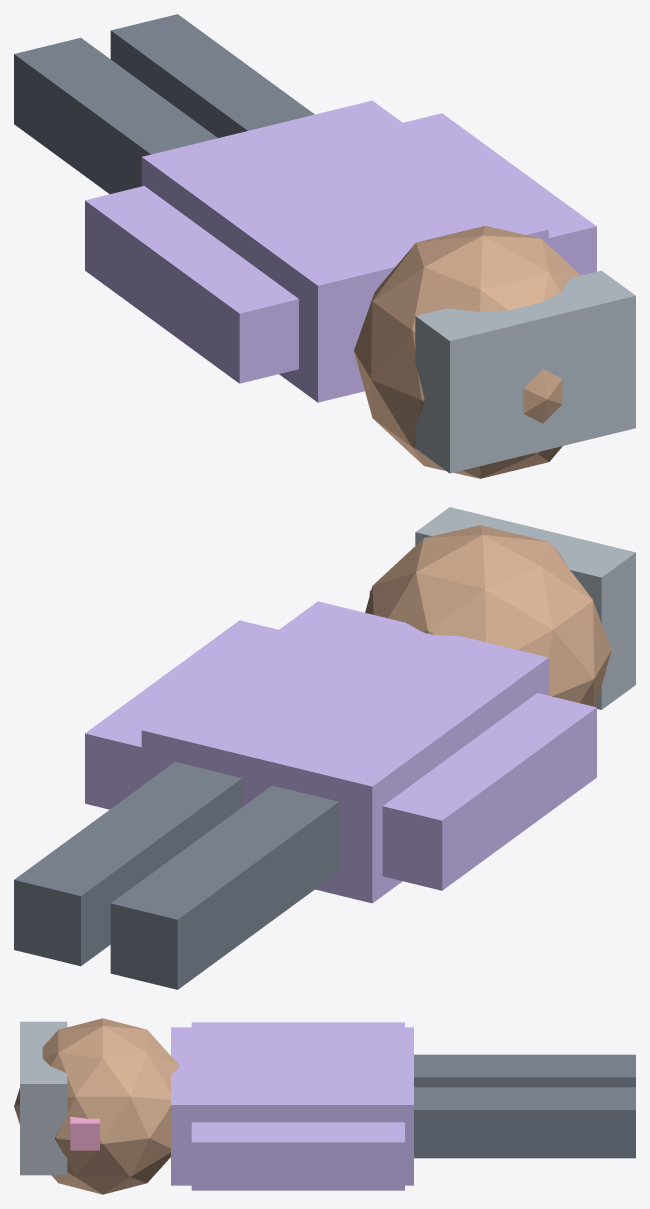
File: manager_variant_2.glb
3 renders of one model, top to bottom at view 1: azimuth 30°, elevation 25°; view 2: azimuth 150°, elevation 25°; view 3: azimuth 270°, elevation 25°, orthographic. The views are drawn at different scales.
Parts seen in each view (by area): view 1: torso_2, hair_6, arm_l_3, head_5, leg_l_0, leg_r_1, arm_r_4; view 2: torso_2, leg_l_0, arm_l_3, head_5, leg_r_1, arm_r_4, hair_6; view 3: torso_2, head_5, leg_r_1, arm_r_4, leg_l_0, hair_6, arm_l_3, earring_or_badge_9.
Part boxes in pixels (x1,y1,x2,y2): torso_2: [141, 100, 548, 402]; hair_6: [415, 270, 635, 473]; arm_l_3: [85, 186, 298, 383]; head_5: [354, 226, 580, 478]; leg_l_0: [14, 38, 217, 193]; leg_r_1: [110, 14, 314, 137]; arm_r_4: [403, 113, 596, 275]; torso_2: [141, 601, 548, 903]; leg_l_0: [110, 785, 338, 989]; arm_l_3: [382, 693, 596, 890]; head_5: [365, 525, 611, 706]; leg_r_1: [14, 762, 242, 966]; arm_r_4: [85, 620, 278, 809]; hair_6: [415, 507, 635, 709]; torso_2: [171, 1027, 413, 1185]; head_5: [14, 1018, 178, 1194]; leg_r_1: [414, 1087, 635, 1158]; arm_r_4: [191, 1122, 404, 1190]; leg_l_0: [414, 1054, 635, 1087]; hair_6: [20, 1021, 67, 1175]; arm_l_3: [191, 1022, 404, 1027]; earring_or_badge_9: [70, 1116, 99, 1150].
Bounding box in the file's own units: 0.96 × 0.6 × 2.1.
